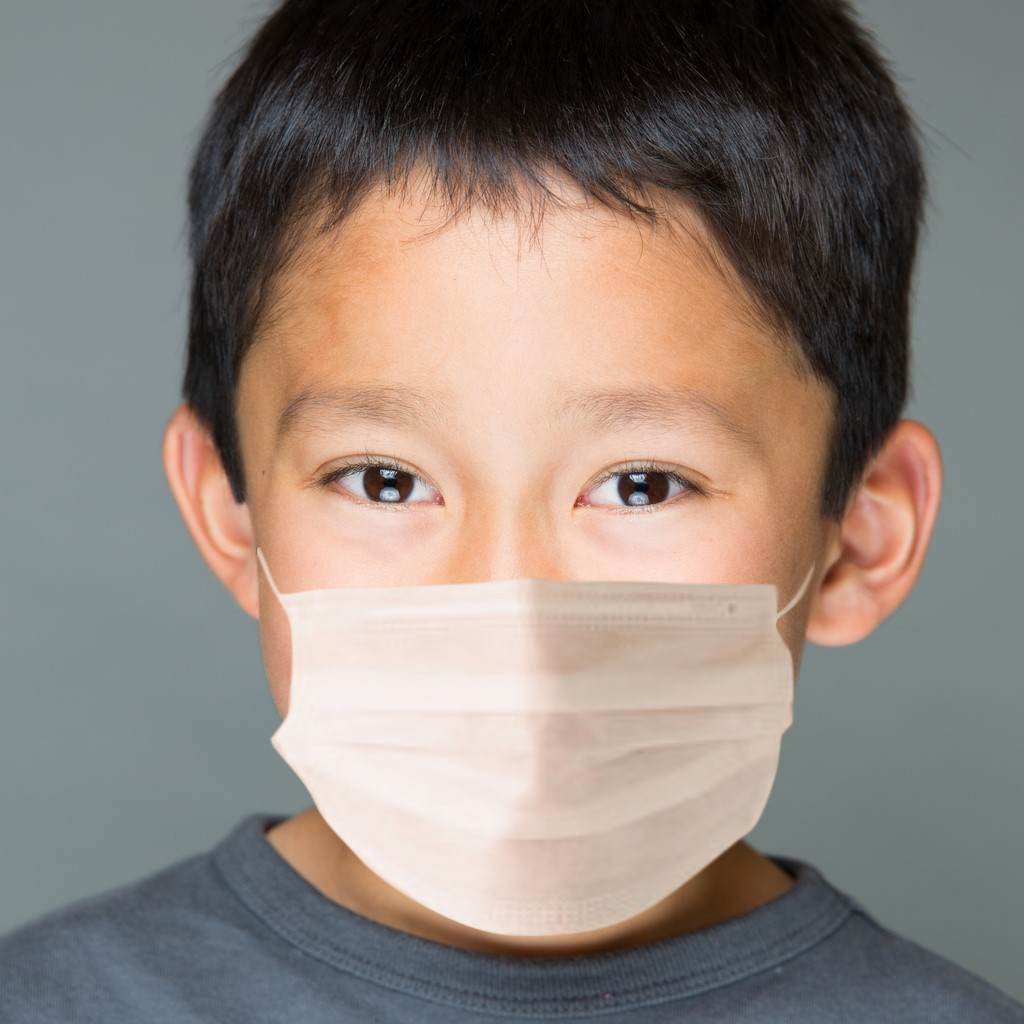con_mascara: (189, 131, 919, 936)
